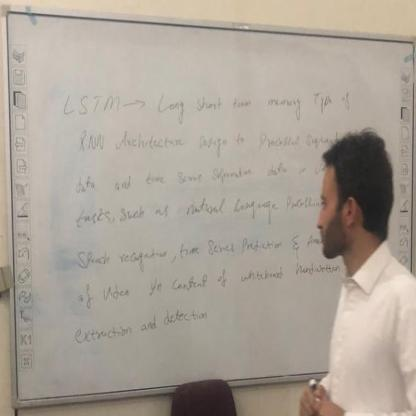Handwritten text: (65, 242, 343, 317), (61, 75, 355, 135), (68, 216, 287, 276), (70, 147, 292, 201), (65, 290, 229, 359), (69, 189, 284, 234), (72, 124, 304, 155)
Lecturer: (284, 125, 416, 416)
Whiteboard: (0, 4, 415, 416)
